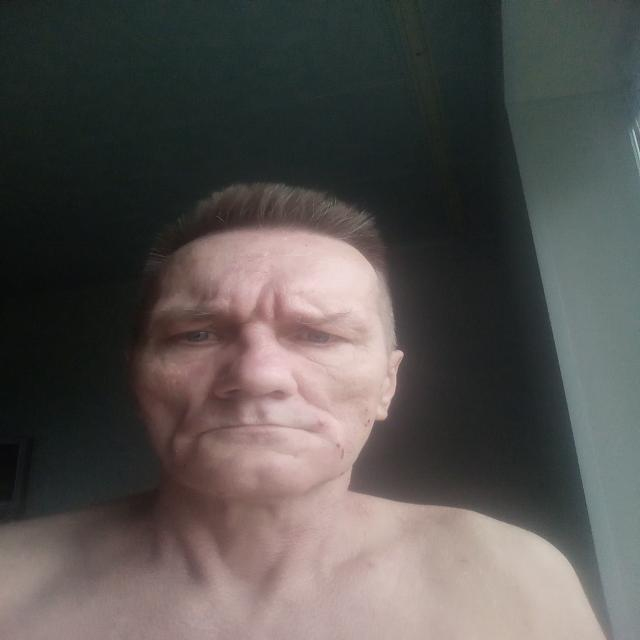Acne: (334, 442, 347, 460), (316, 418, 326, 428), (182, 465, 192, 474), (364, 419, 371, 429), (216, 490, 227, 496), (340, 471, 342, 476)
Englarged-Pores: (342, 385, 375, 414)
Wrinkles: (304, 354, 349, 383), (244, 288, 282, 322), (244, 252, 321, 262), (354, 333, 379, 360), (300, 396, 333, 414), (270, 447, 302, 461), (329, 412, 344, 428), (251, 414, 264, 422)
